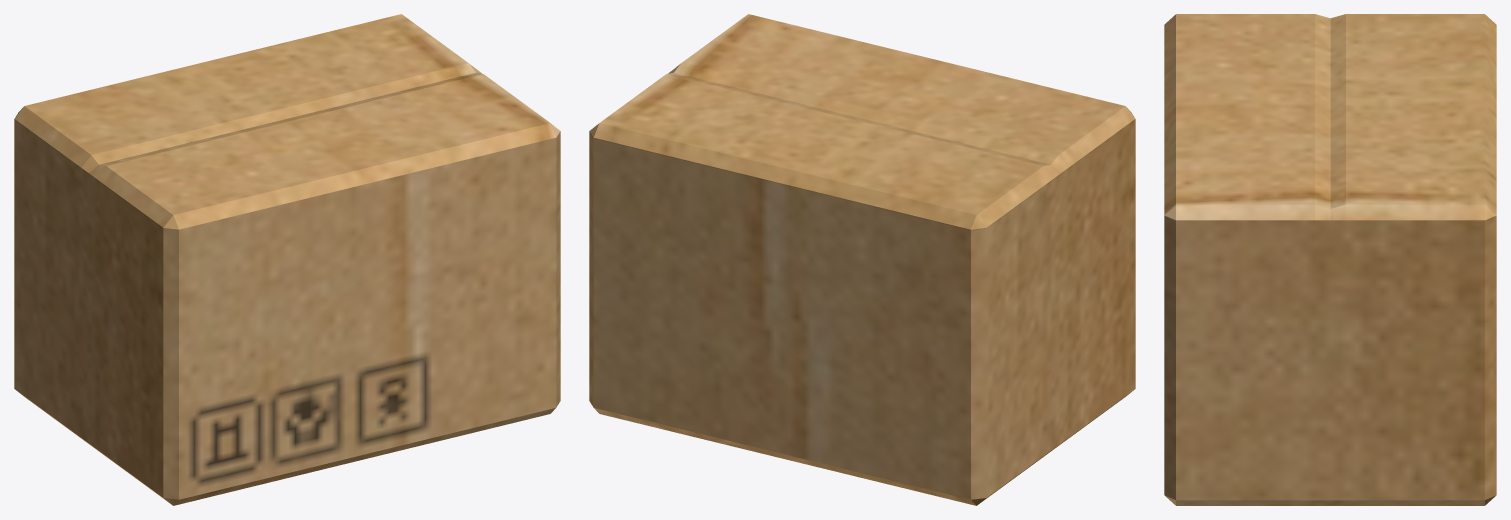
3 renders of one model, left to right at view 1: azimuth 30°, elevation 25°; view 2: azimuth 150°, elevation 25°; view 3: azimuth 270°, elevation 25°, orthographic. The views are drawn at different scales.
Visible parts, largest first — view 1: коробка 2; view 2: коробка 2; view 3: коробка 2.
Boxes of the visible parts, box(x1,y1,x2,y2) form: коробка 2: box(14, 14, 560, 505); коробка 2: box(589, 14, 1135, 505); коробка 2: box(1164, 14, 1496, 505).
Size of the model in its own units: 20 by 14 by 14.
